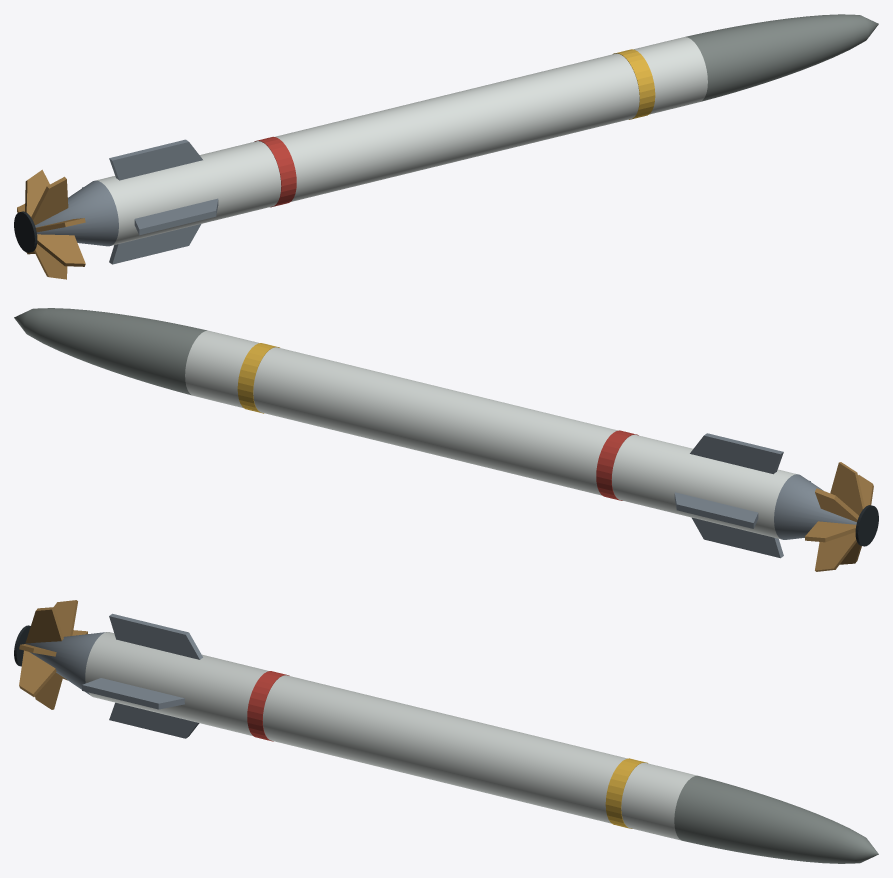
Rendered from cw90_set65.glb.
3 views of the same model, one above another, from view 1: azimuth 30°, elevation 25°; view 2: azimuth 150°, elevation 25°; view 3: azimuth 330°, elevation 25° (orthographic).
Visible parts, largest first — view 1: cw90_set65; view 2: cw90_set65; view 3: cw90_set65.
Part boxes in pixels (x1,y1,x2,y2): cw90_set65: (14,14,878,279); cw90_set65: (14,308,878,571); cw90_set65: (14,600,878,863).
Size of the model in its own units: 10 by 1.16 by 1.16.
